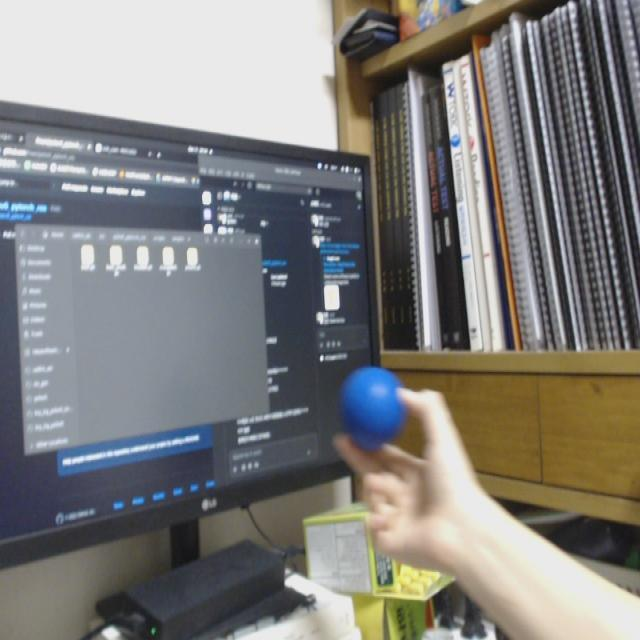golfball: (337, 364, 404, 454)
